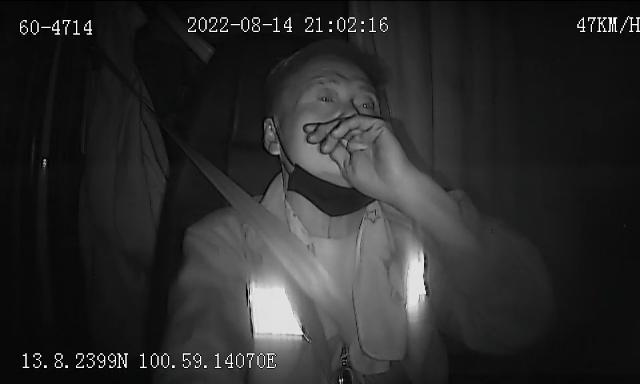Seatbelt: (212, 173, 372, 384)
